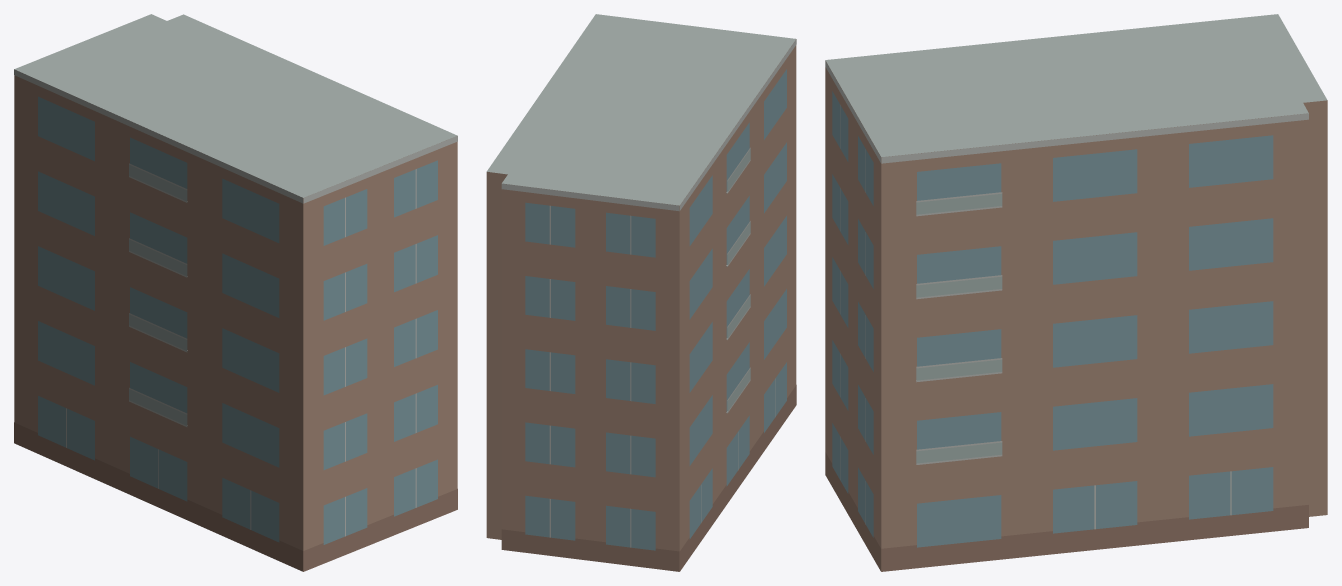
Rendered from survey-upis-32715548.glb.
3 renders of one model, left to right at view 1: azimuth 30°, elevation 25°; view 2: azimuth 150°, elevation 25°; view 3: azimuth 270°, elevation 25°, orthographic. The views are drawn at different scales.
Parts seen in each view (by area): view 1: survey-upis-32715548.tmp; view 2: survey-upis-32715548.tmp; view 3: survey-upis-32715548.tmp.
Part boxes in pixels (bbox=[...]): survey-upis-32715548.tmp: bbox=[14, 14, 457, 571]; survey-upis-32715548.tmp: bbox=[486, 14, 796, 571]; survey-upis-32715548.tmp: bbox=[825, 14, 1327, 571].
Bounding box in the file's own units: 11.68 × 15.75 × 17.3.
